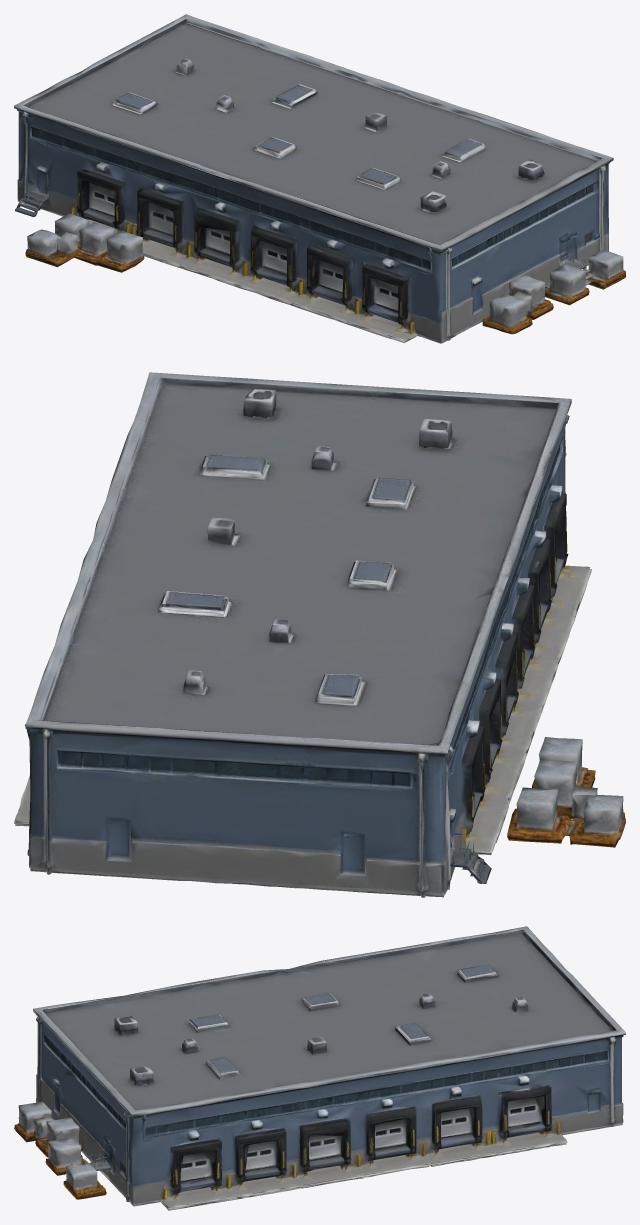
Rendered from cargo.glb.
3 views of the same model, one above another, from view 1: azimuth 30°, elevation 25°; view 2: azimuth 150°, elevation 25°; view 3: azimuth 270°, elevation 25° (orthographic). The views are drawn at different scales.
Visible parts, largest first — view 1: tripo_node_0f117527-eda3-4eb2-af75-e8673012fb65; view 2: tripo_node_0f117527-eda3-4eb2-af75-e8673012fb65; view 3: tripo_node_0f117527-eda3-4eb2-af75-e8673012fb65.
Part boxes in pixels (x1,y1,x2,y2): tripo_node_0f117527-eda3-4eb2-af75-e8673012fb65: [14, 14, 625, 343]; tripo_node_0f117527-eda3-4eb2-af75-e8673012fb65: [14, 372, 625, 897]; tripo_node_0f117527-eda3-4eb2-af75-e8673012fb65: [14, 926, 625, 1210].
Size of the model in its own units: 0.8522 by 0.1908 by 1.03.
1 material, 1 textured.
